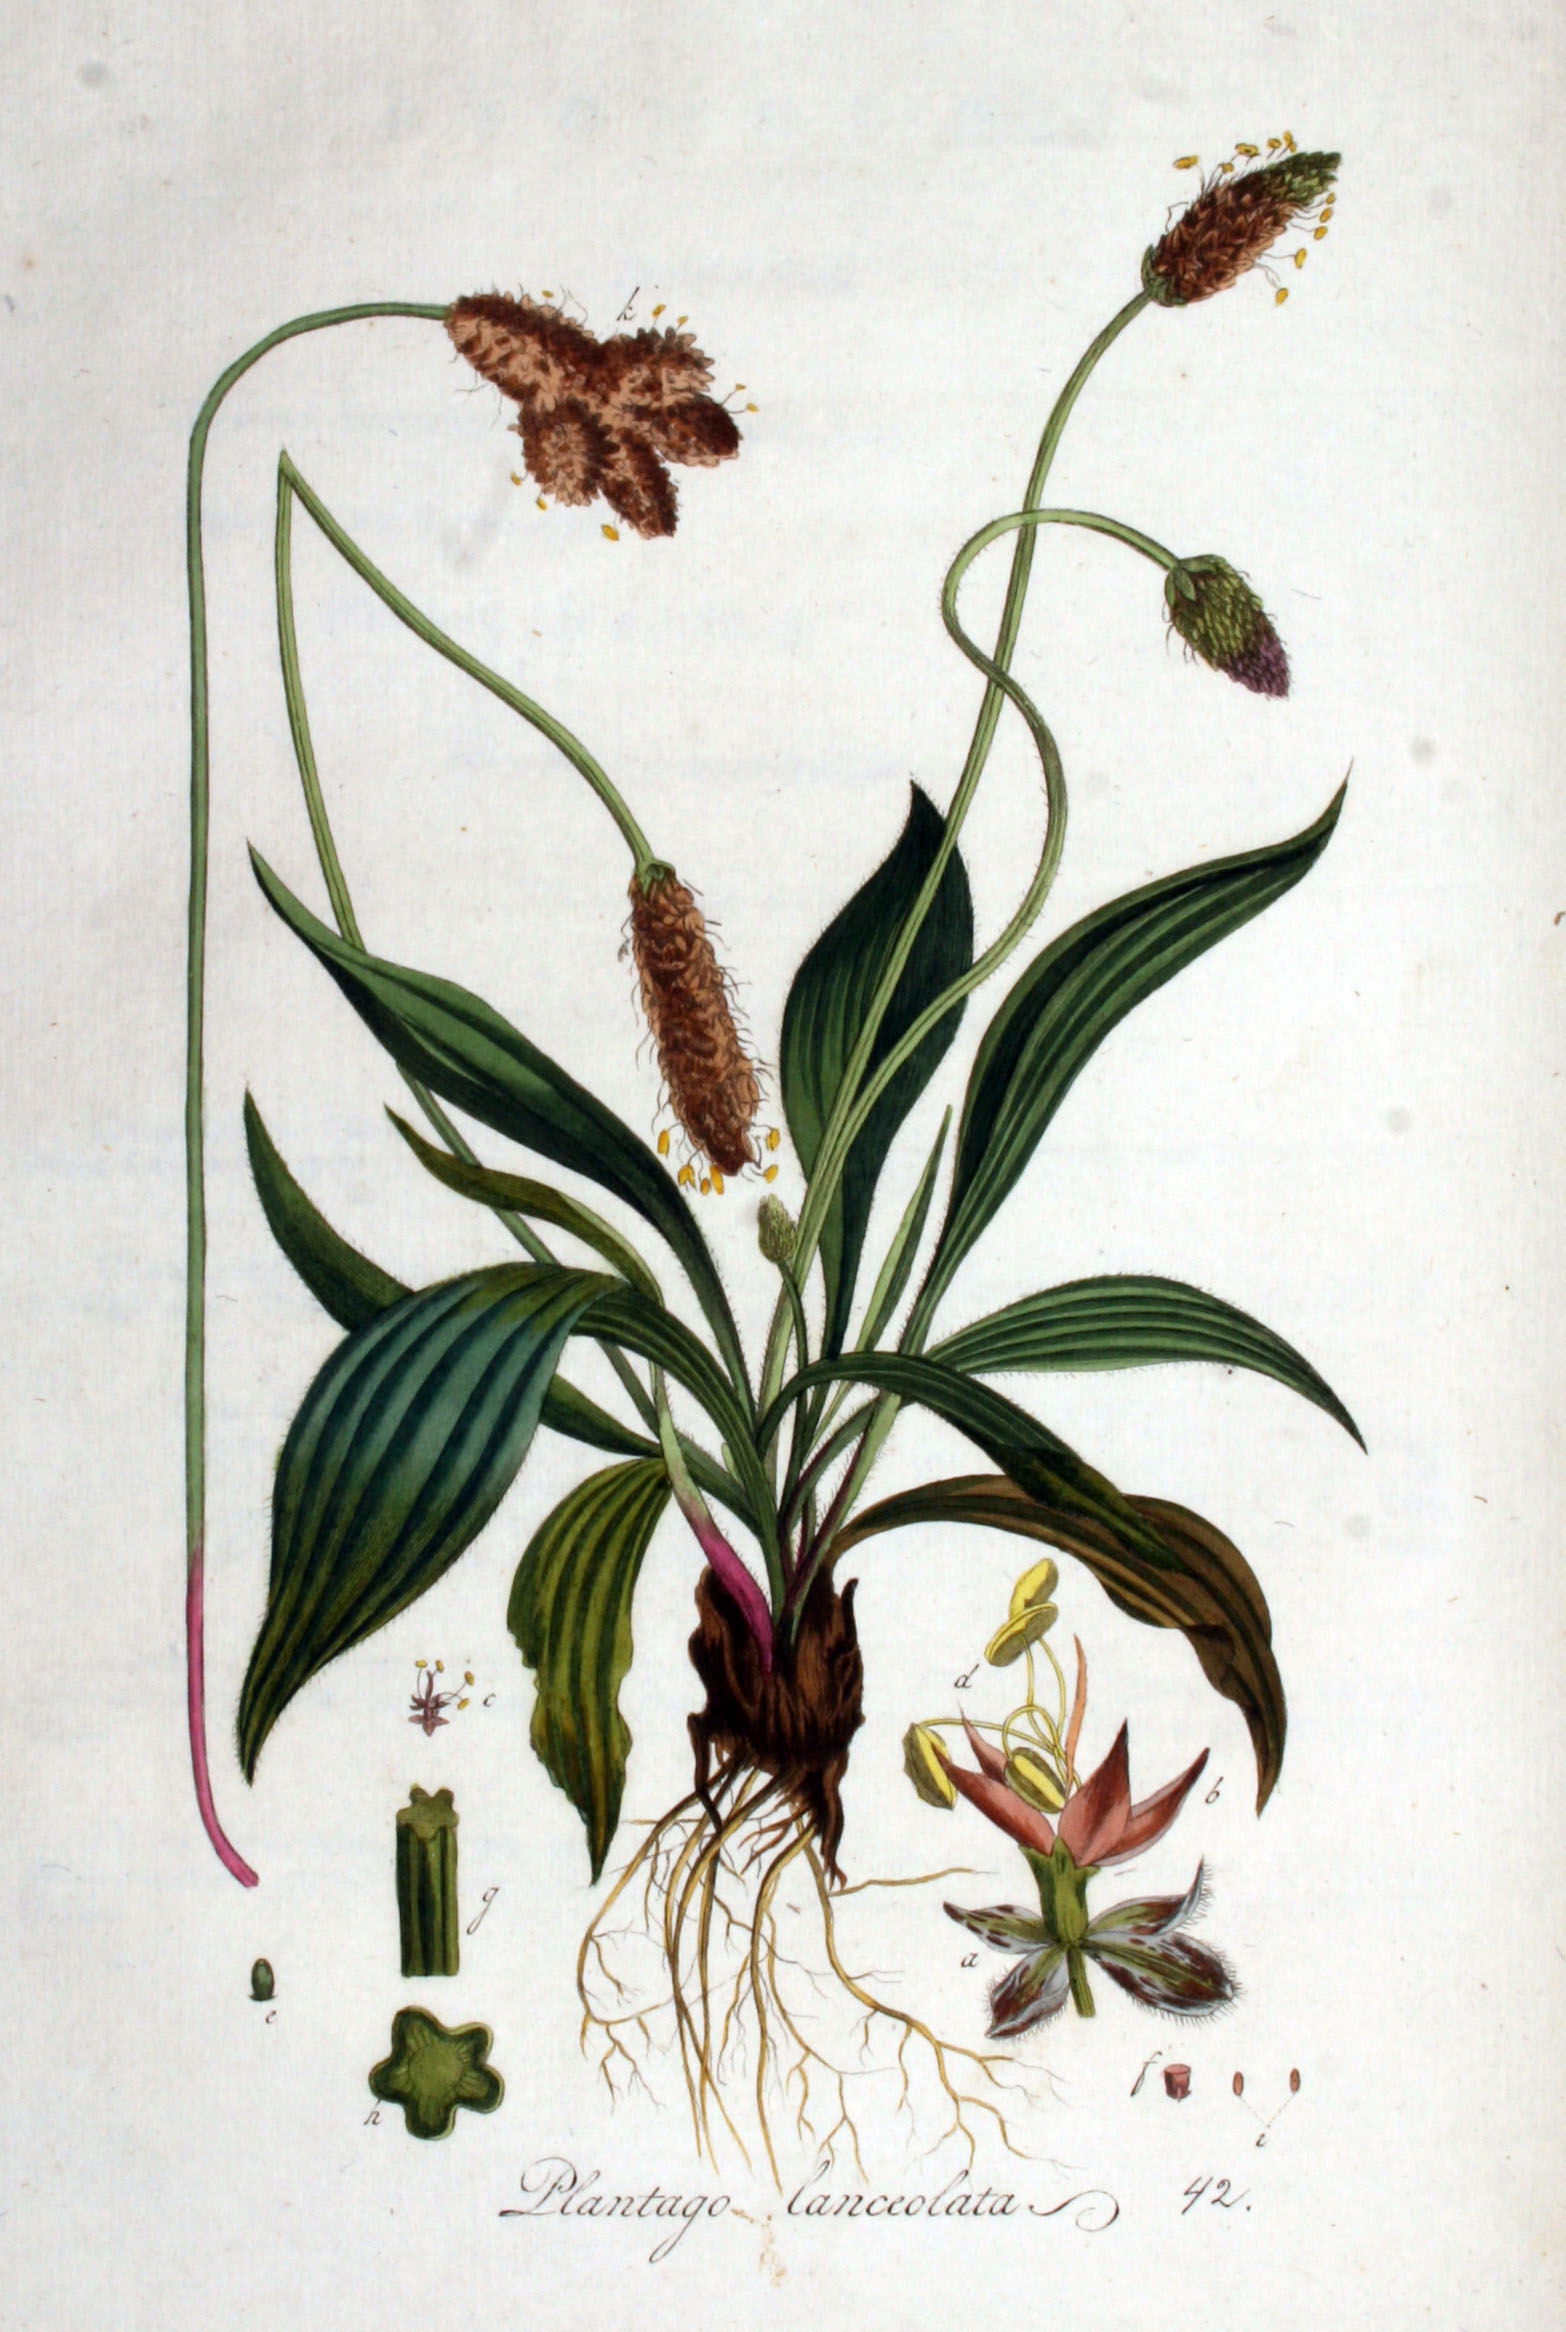buckhorn plantain: (119, 145, 1313, 1771)
